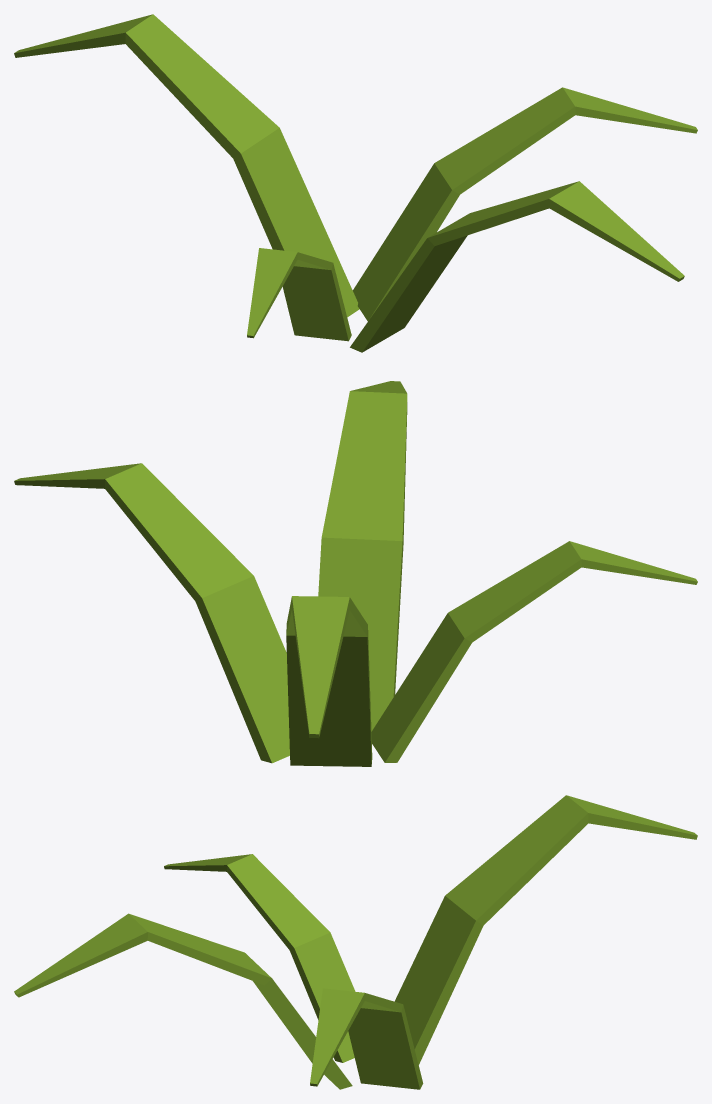
File: Grass_30.fbx
The picture shows the model from 3 angles, top to bottom: view 1: azimuth 30°, elevation 25°; view 2: azimuth 150°, elevation 25°; view 3: azimuth 270°, elevation 25°; orthographic projection. The views are drawn at different scales.
Visible parts, largest first — view 1: Grass_30; view 2: Grass_30; view 3: Grass_30.
Part boxes in pixels (left/top/right/bottom): Grass_30: left=14, top=14, right=697, bottom=352; Grass_30: left=14, top=381, right=697, bottom=766; Grass_30: left=14, top=795, right=697, bottom=1089.
Size of the model in its own units: 97.29 by 43.16 by 118.
